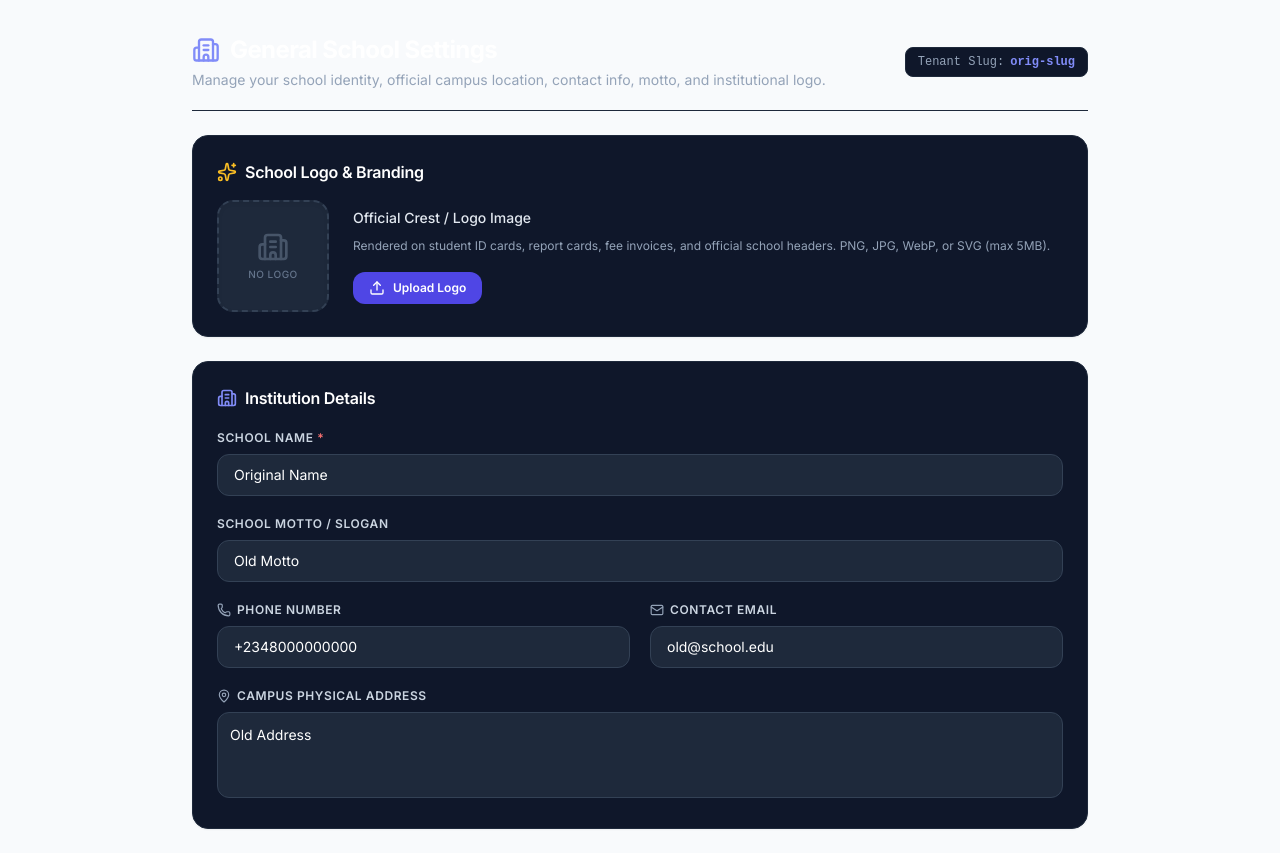
Test case: General School Settings Page (/dashboard/settings) › submits updated school settings to /api/settings/school and shows success banner
This screenshot has width=1280, height=853.
Replace the text in the field labelled "School Name *" with "New Updated Academy" at (640, 475), box [217,454,1063,496]
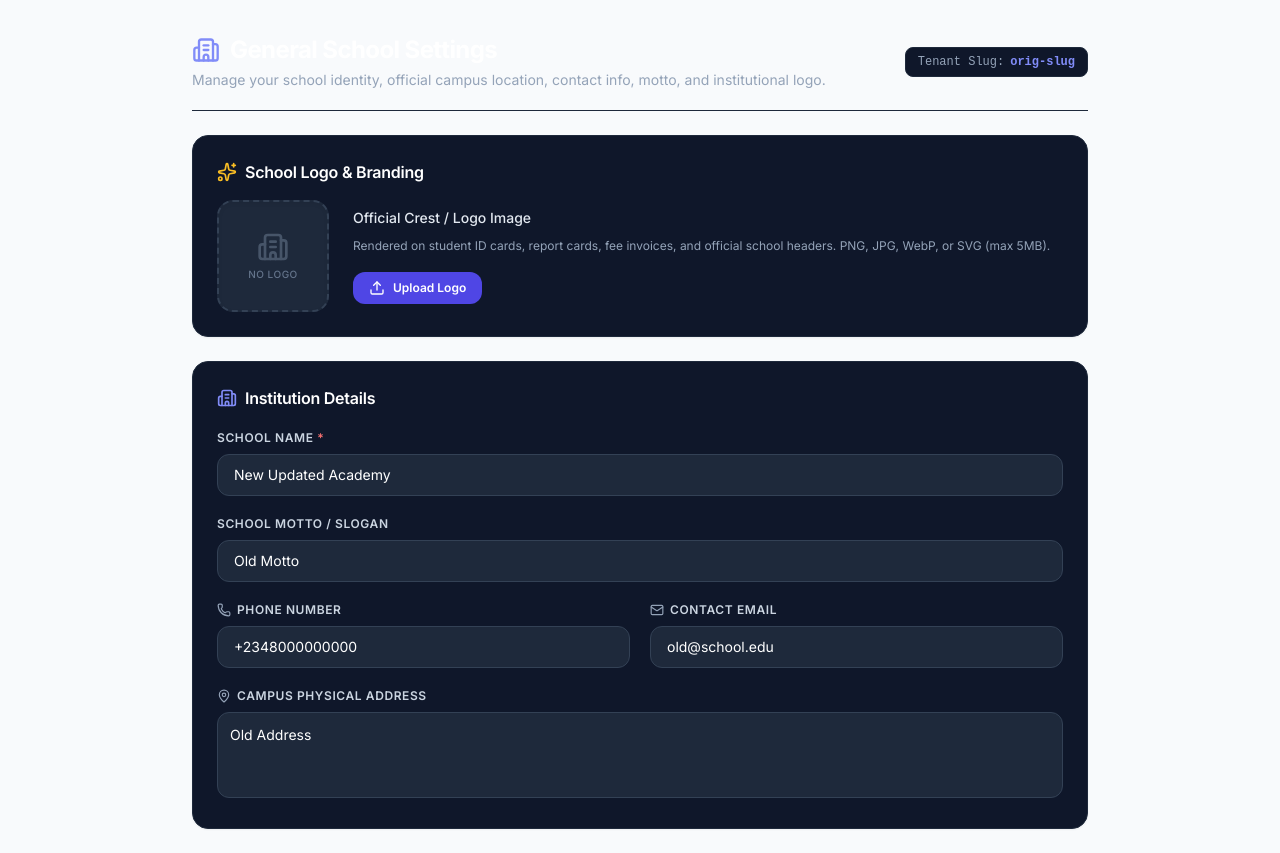
Replace the text in the field labelled "School Motto / Slogan" with "New Inspiring Motto" at (640, 561), box [217,540,1063,582]
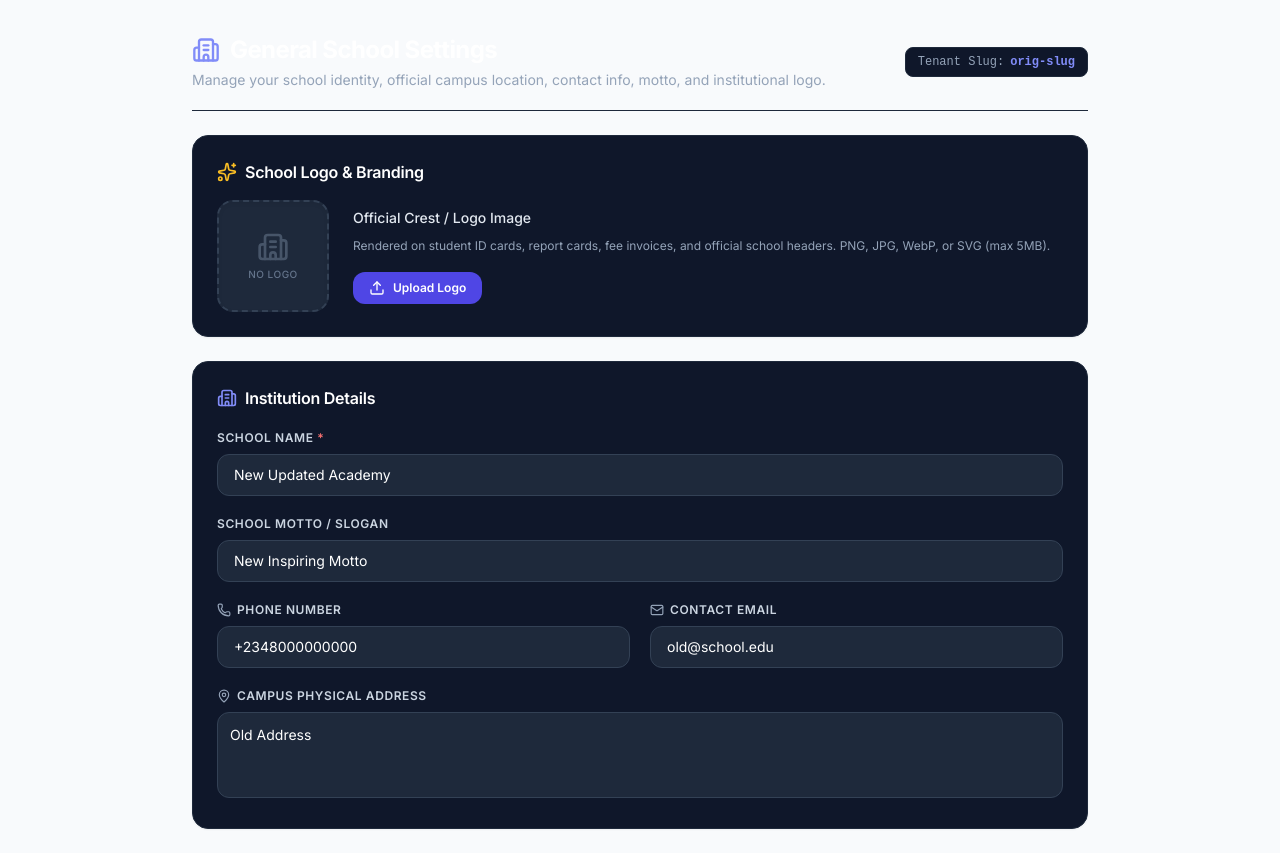
Replace the text in the field labelled "Phone Number" with "+2348123456789" at (424, 647), box [217,626,630,668]
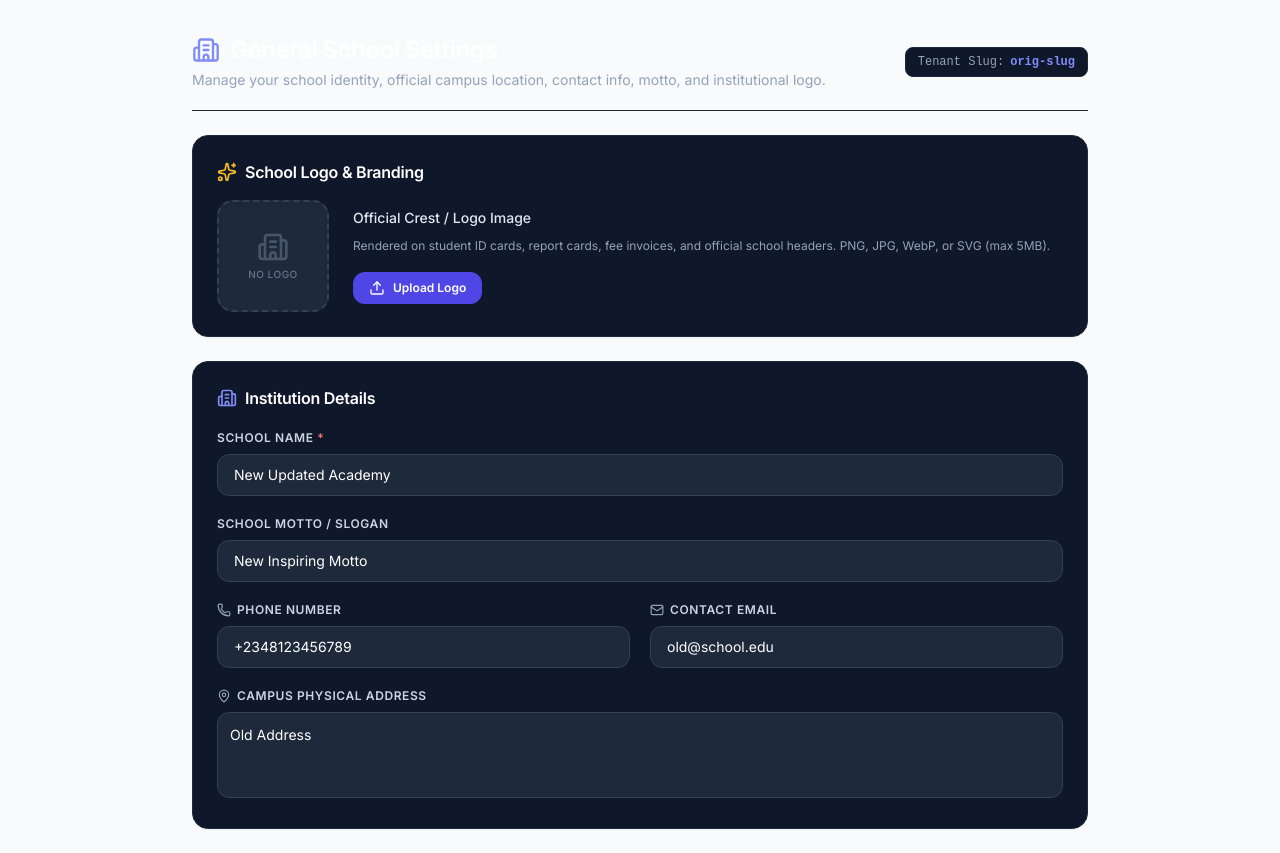
Replace the text in the text box labelled "Campus Physical Address" with "New Campus Location" at (640, 755), box [217,712,1063,798]
(page scrolled)
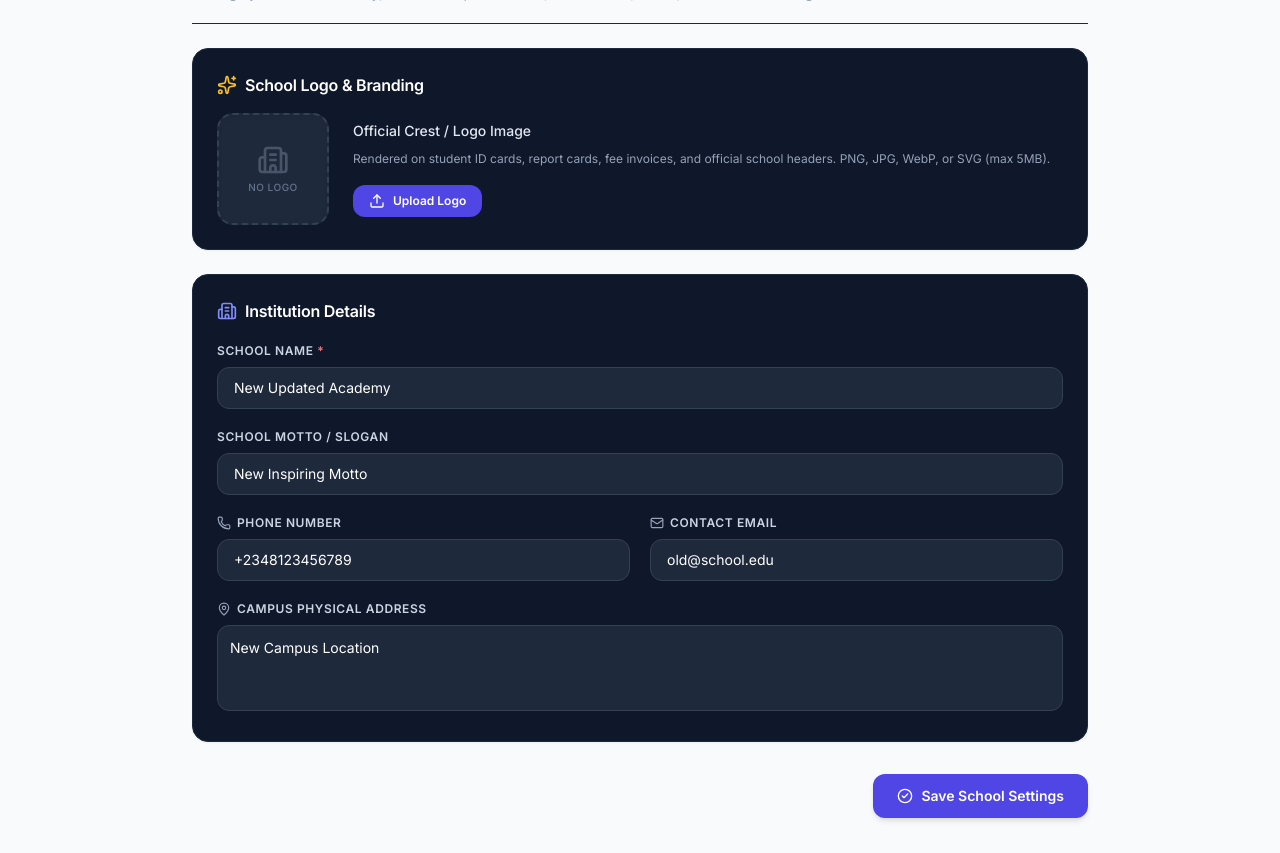
Click the button "Save School Settings".
click(981, 796)  # box [873,774,1088,818]
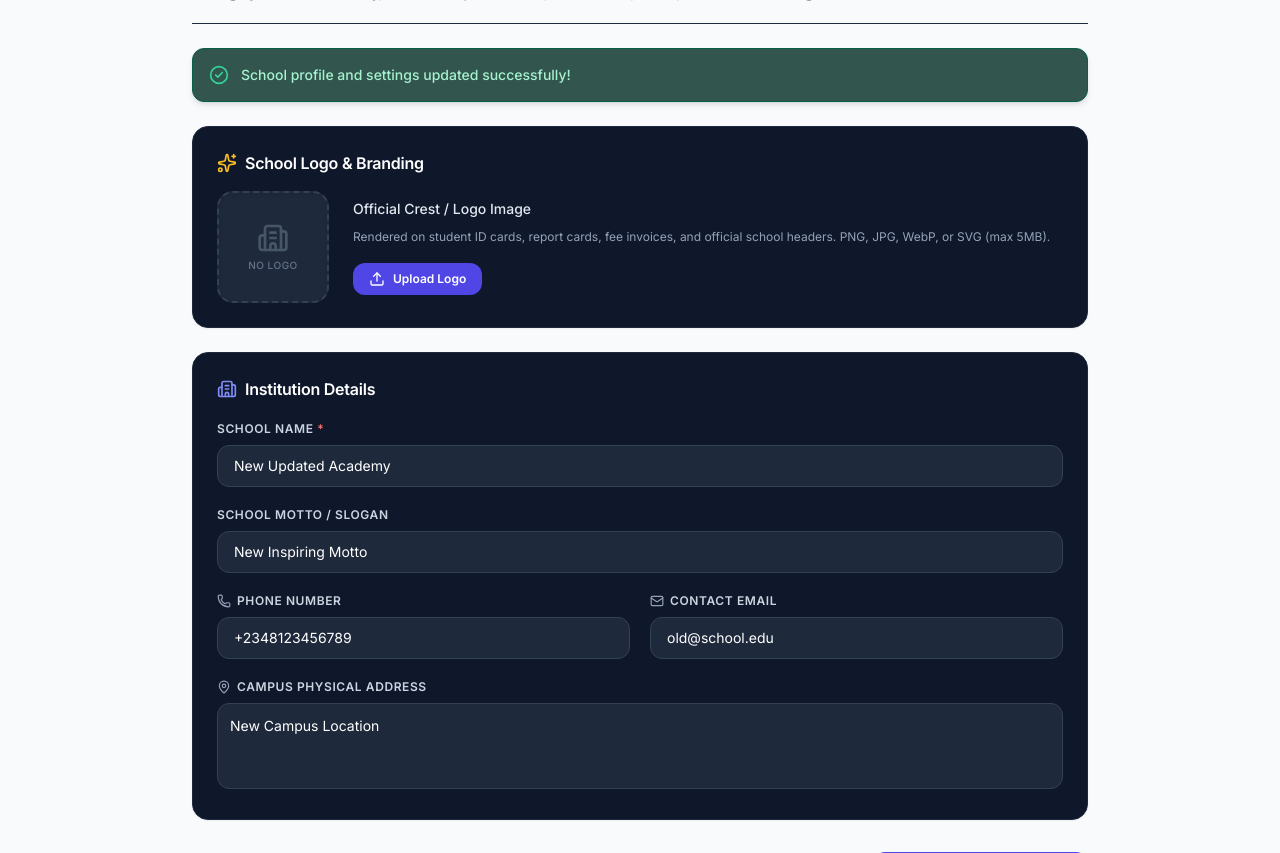
Result: the text "School profile and settings updated successfully!" is shown at [241,65,571,85]
